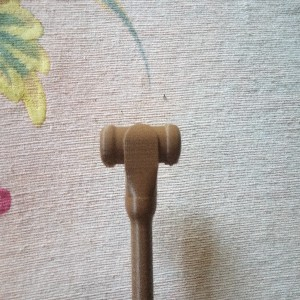palu: (99, 122, 182, 300)
